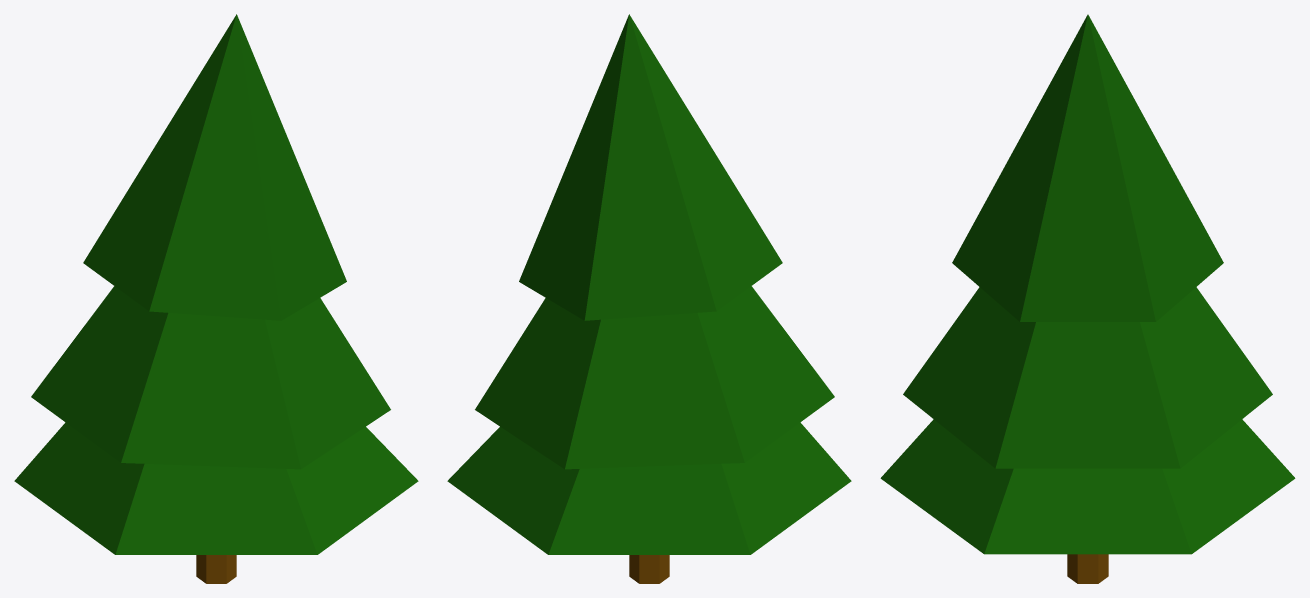
Rendered from tree model.fbx.
The picture shows the model from 3 angles, left to right: view 1: azimuth 30°, elevation 25°; view 2: azimuth 150°, elevation 25°; view 3: azimuth 270°, elevation 25°; orthographic projection. The views are drawn at different scales.
Visible parts, largest first — view 1: Tree_Type1_03_mesh; view 2: Tree_Type1_03_mesh; view 3: Tree_Type1_03_mesh.
Part boxes in pixels (left/top/right/bottom): Tree_Type1_03_mesh: left=14, top=14, right=418, bottom=583; Tree_Type1_03_mesh: left=447, top=14, right=851, bottom=583; Tree_Type1_03_mesh: left=880, top=14, right=1295, bottom=583.
Size of the model in its own units: 175 by 307 by 202.
